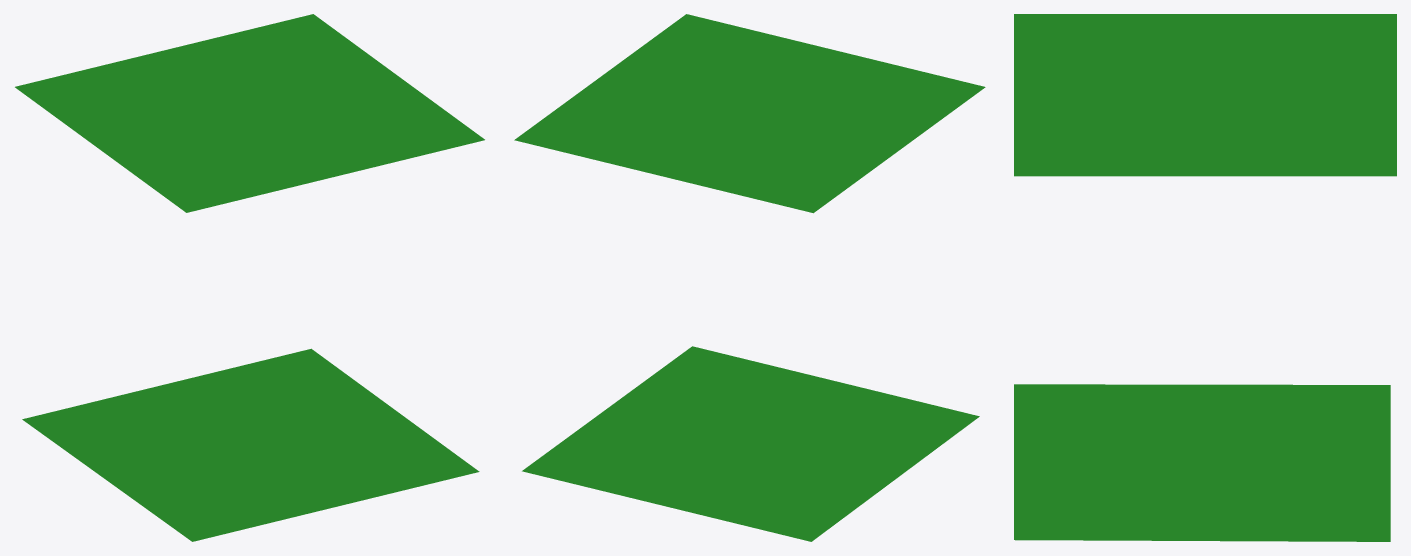
The model's file is Puzzle_002_Elevator_Cart_Top.fbx.
3 renders of one model, left to right at view 1: azimuth 30°, elevation 25°; view 2: azimuth 150°, elevation 25°; view 3: azimuth 270°, elevation 25°, orthographic. The views are drawn at different scales.
Parts seen in each view (by area): view 1: Puzzle_002_Elevator_Cart_Top; view 2: Puzzle_002_Elevator_Cart_Top; view 3: Puzzle_002_Elevator_Cart_Top.
Boxes of the visible parts, x1,y1,x2,y2 form: Puzzle_002_Elevator_Cart_Top: [15, 14, 484, 541]; Puzzle_002_Elevator_Cart_Top: [514, 14, 985, 541]; Puzzle_002_Elevator_Cart_Top: [1014, 14, 1396, 541].
Size of the model in its own units: 360 by 381 by 359.
